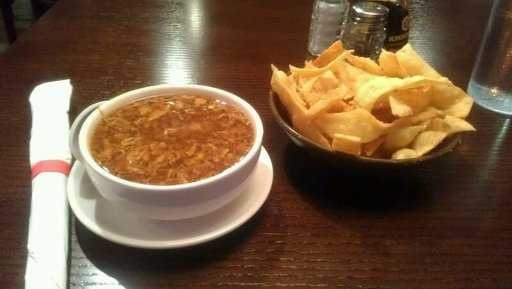soup: (74, 88, 258, 184)
